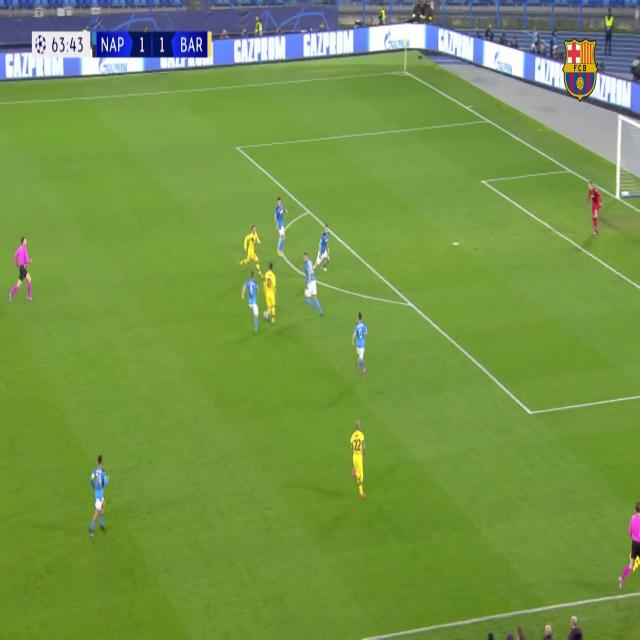Ball: (264, 306, 268, 320)
GoalKeeper: (588, 183, 601, 238)
TEAM 1: (88, 455, 108, 534), (302, 254, 326, 318), (242, 271, 264, 333), (353, 311, 370, 377), (314, 227, 331, 273), (274, 198, 288, 253)
TEAM 2: (350, 420, 368, 504), (241, 224, 263, 270), (264, 266, 278, 326)
